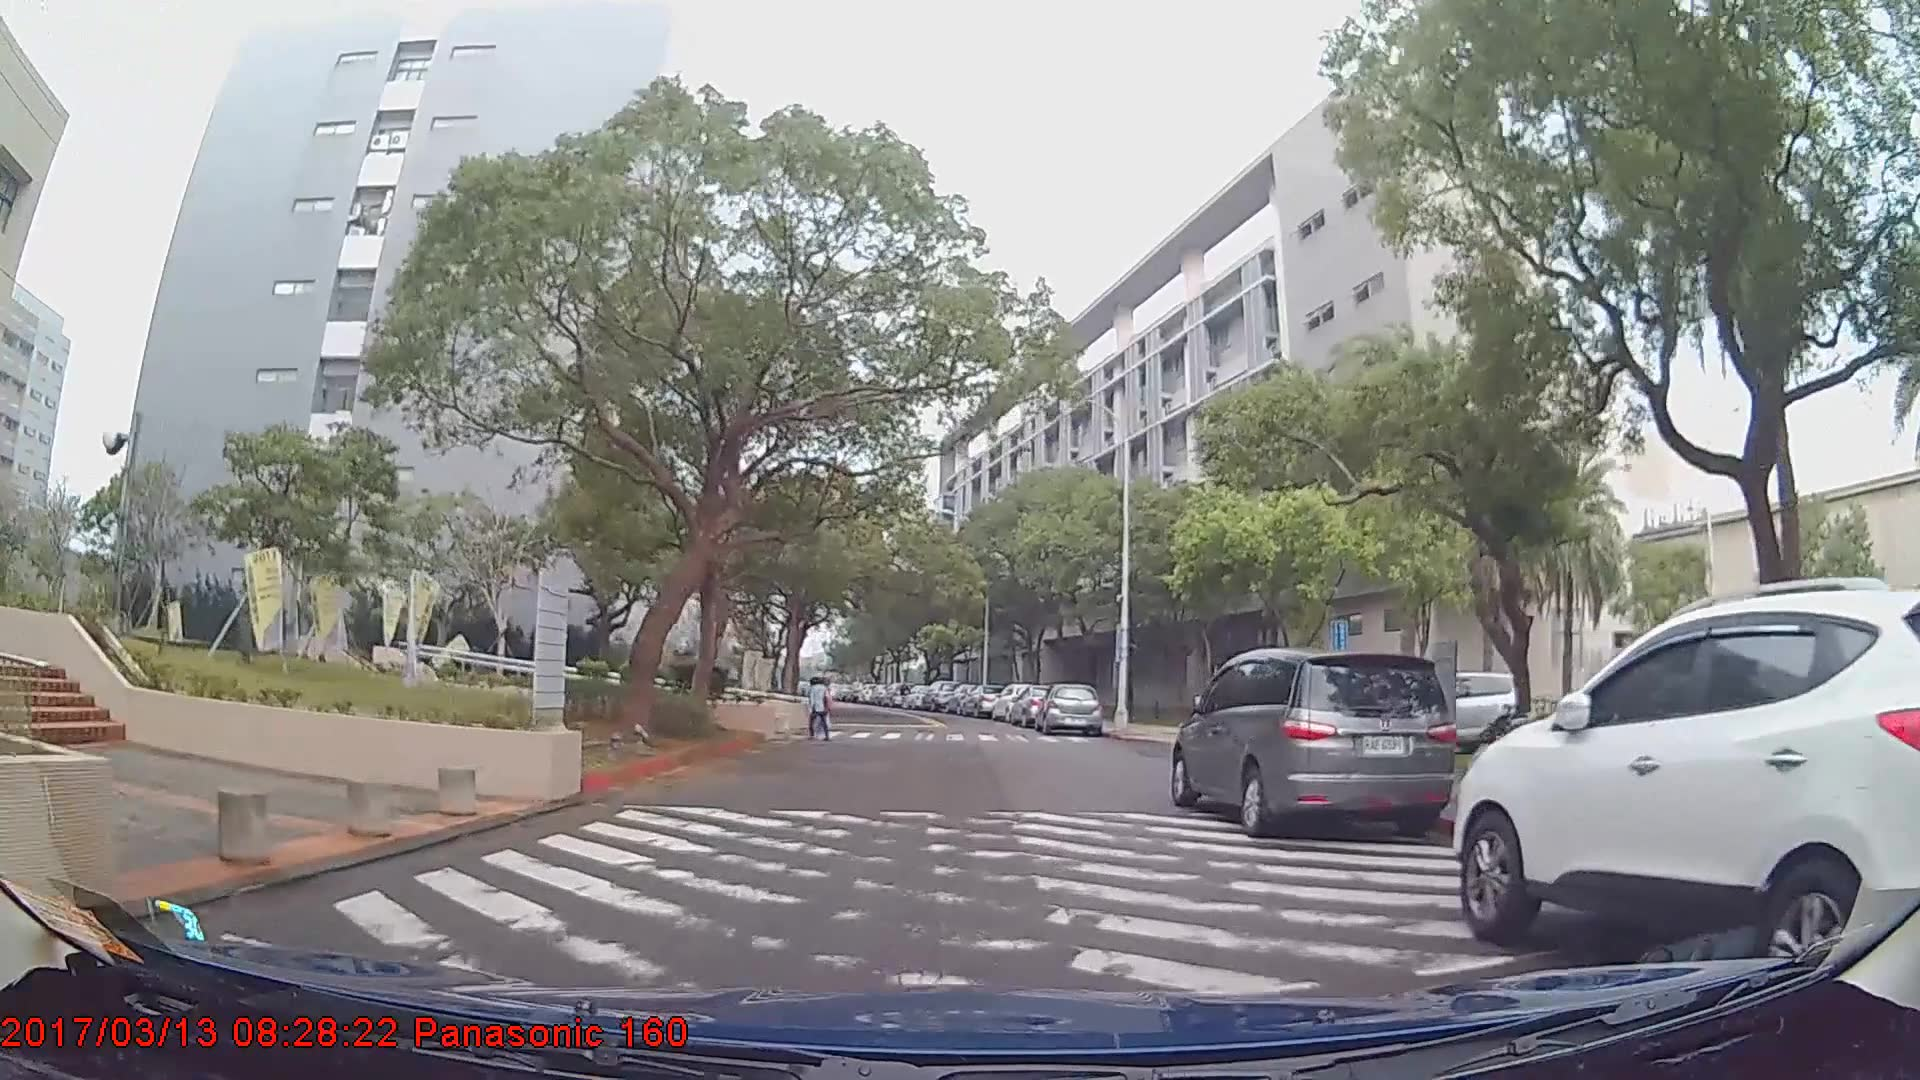pedestrian: (807, 678, 837, 744), (814, 665, 840, 730)
vehicle: (1451, 584, 1919, 982), (1169, 647, 1458, 839), (1041, 680, 1103, 734), (921, 678, 961, 711), (965, 685, 1006, 716)
